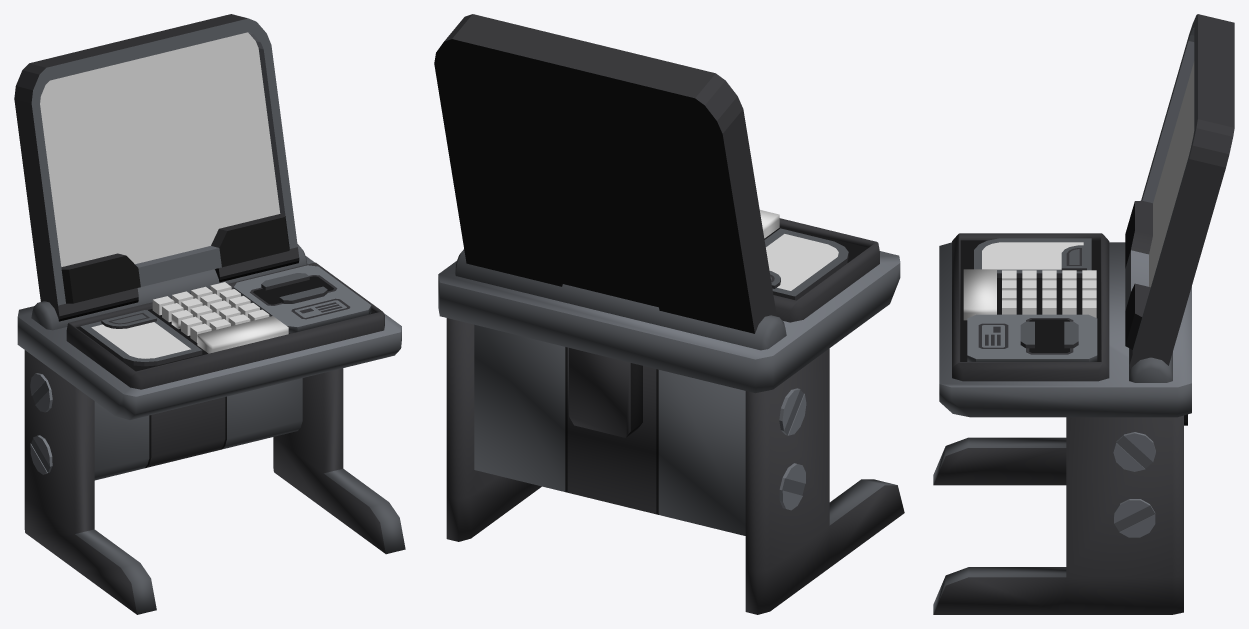
The model's file is Surgery Console.fbx.
3 renders of one model, left to right at view 1: azimuth 30°, elevation 25°; view 2: azimuth 150°, elevation 25°; view 3: azimuth 270°, elevation 25°, orthographic. The views are drawn at different scales.
Parts seen in each view (by area): view 1: ConsoleCarcass, Screen, Keyboard, IDslot, FingertipScanner; view 2: ConsoleCarcass, FingertipScanner; view 3: ConsoleCarcass, IDslot, Keyboard, FingertipScanner, Screen.
Part boxes in pixels (x1,y1,x2,y2): ConsoleCarcass: [14, 14, 405, 614]; Screen: [40, 32, 280, 266]; Keyboard: [152, 282, 288, 353]; IDslot: [233, 265, 371, 333]; FingertipScanner: [80, 310, 202, 366]; ConsoleCarcass: [434, 14, 904, 614]; FingertipScanner: [764, 228, 848, 300]; ConsoleCarcass: [933, 14, 1234, 614]; IDslot: [967, 314, 1097, 361]; Keyboard: [963, 269, 1096, 320]; FingertipScanner: [974, 238, 1091, 277]; Screen: [1149, 61, 1194, 287].
Size of the model in its own units: 101 by 155 by 88.76.
